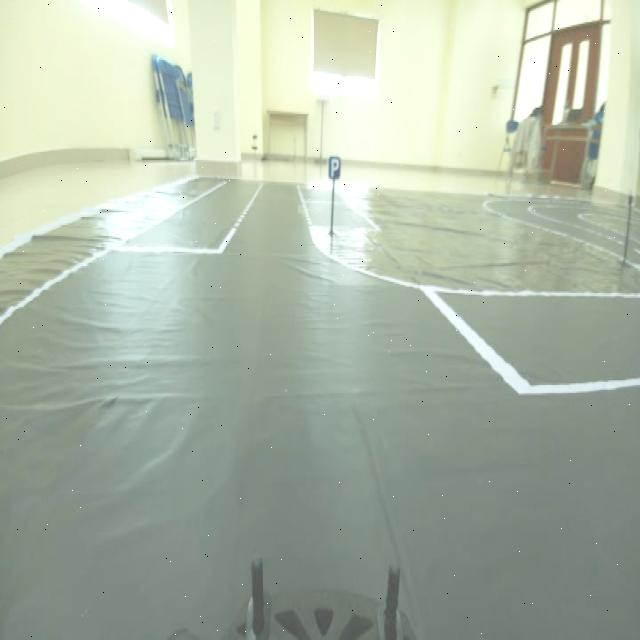parking: (320, 150, 346, 186)
